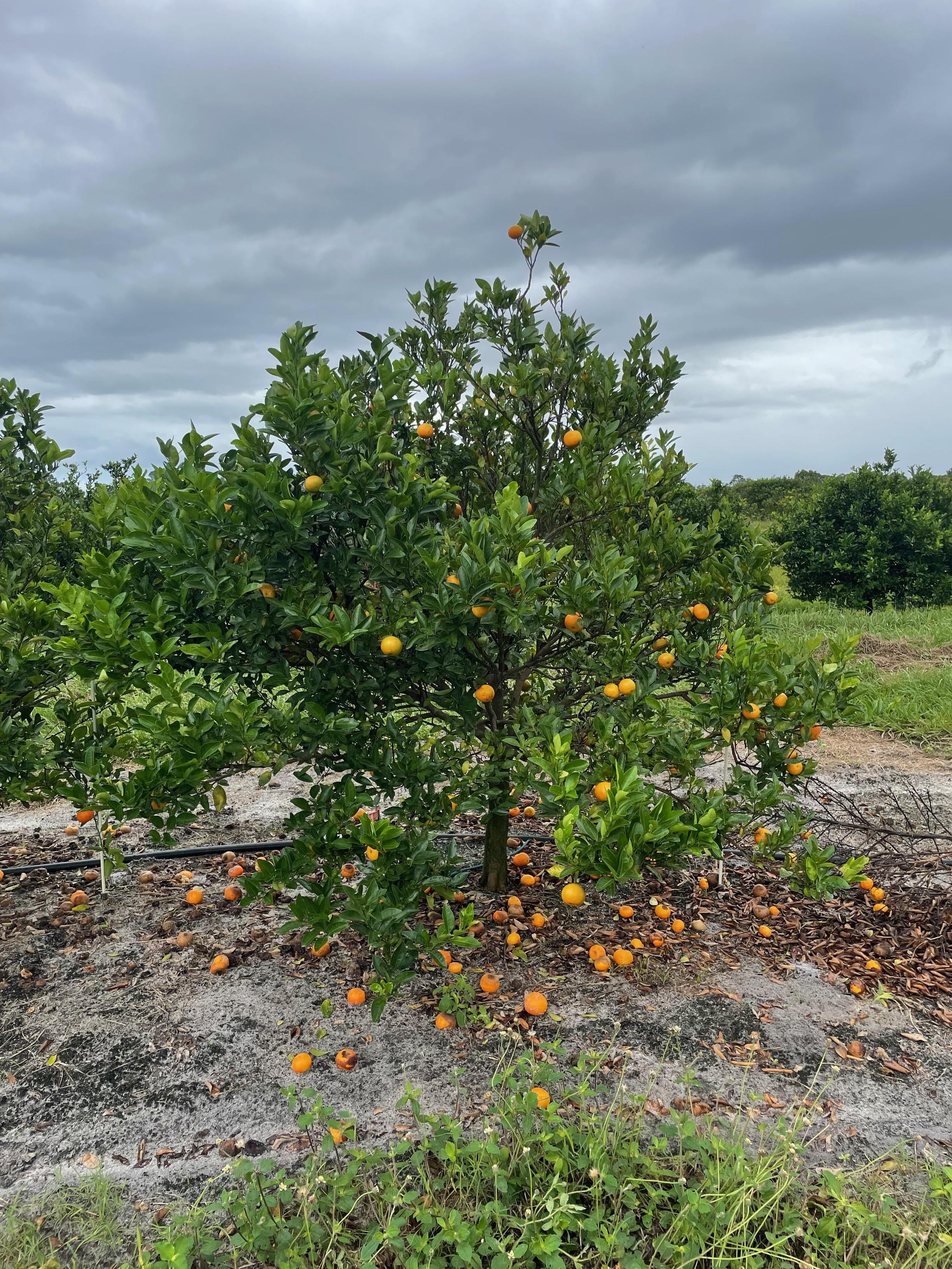fruit_on_ground: (468, 592, 499, 621), (500, 573, 528, 598), (300, 471, 326, 496), (562, 610, 588, 634), (379, 633, 404, 657), (560, 426, 585, 450), (253, 581, 278, 603), (592, 779, 615, 802), (145, 790, 169, 812), (687, 600, 711, 622), (364, 840, 386, 863), (801, 720, 824, 742), (414, 420, 438, 441), (577, 726, 599, 748), (474, 682, 496, 704), (516, 497, 537, 519), (752, 826, 774, 847), (446, 499, 467, 521), (442, 571, 465, 591), (712, 641, 733, 662), (440, 792, 460, 813), (75, 806, 96, 826), (617, 675, 637, 696), (655, 650, 677, 669), (601, 679, 621, 699), (506, 222, 527, 241), (786, 758, 806, 777), (761, 589, 781, 608), (741, 701, 761, 720), (650, 633, 671, 650), (772, 690, 790, 709), (680, 604, 698, 622), (751, 727, 769, 745), (780, 746, 800, 762), (351, 806, 369, 822), (518, 677, 534, 693), (667, 763, 682, 777)
fruit_on_tree: (325, 1119, 356, 1146), (524, 1084, 551, 1112), (523, 990, 550, 1016), (559, 881, 586, 907), (333, 1046, 359, 1070), (289, 1051, 314, 1075), (308, 937, 333, 959), (478, 972, 501, 995), (434, 1010, 458, 1031), (345, 985, 368, 1006), (209, 953, 231, 974), (431, 947, 453, 967), (612, 947, 634, 967), (184, 886, 205, 906), (586, 940, 608, 959), (68, 888, 90, 907), (466, 918, 487, 937), (847, 977, 867, 996), (338, 860, 358, 879), (175, 929, 194, 948), (223, 883, 243, 901), (592, 954, 611, 972), (652, 901, 672, 918), (511, 853, 531, 869), (872, 940, 891, 956), (705, 871, 722, 888), (864, 957, 882, 973), (446, 959, 464, 975), (517, 873, 537, 887), (758, 922, 774, 939), (870, 885, 887, 901), (82, 868, 100, 883), (491, 908, 509, 923), (617, 903, 635, 918), (870, 901, 889, 915), (649, 931, 665, 947), (530, 911, 546, 927), (137, 868, 154, 883), (858, 875, 875, 890), (751, 883, 768, 898), (505, 931, 522, 946), (226, 864, 244, 878), (752, 902, 768, 917), (452, 888, 468, 903), (506, 892, 522, 907), (690, 918, 707, 932), (508, 903, 525, 917), (177, 867, 195, 880), (697, 876, 712, 891), (103, 825, 119, 839), (628, 935, 644, 949), (63, 823, 80, 836), (767, 903, 781, 917), (671, 918, 685, 932), (118, 822, 133, 835), (800, 827, 814, 840), (522, 805, 536, 818), (506, 836, 521, 848), (221, 851, 237, 862), (508, 805, 521, 817)
